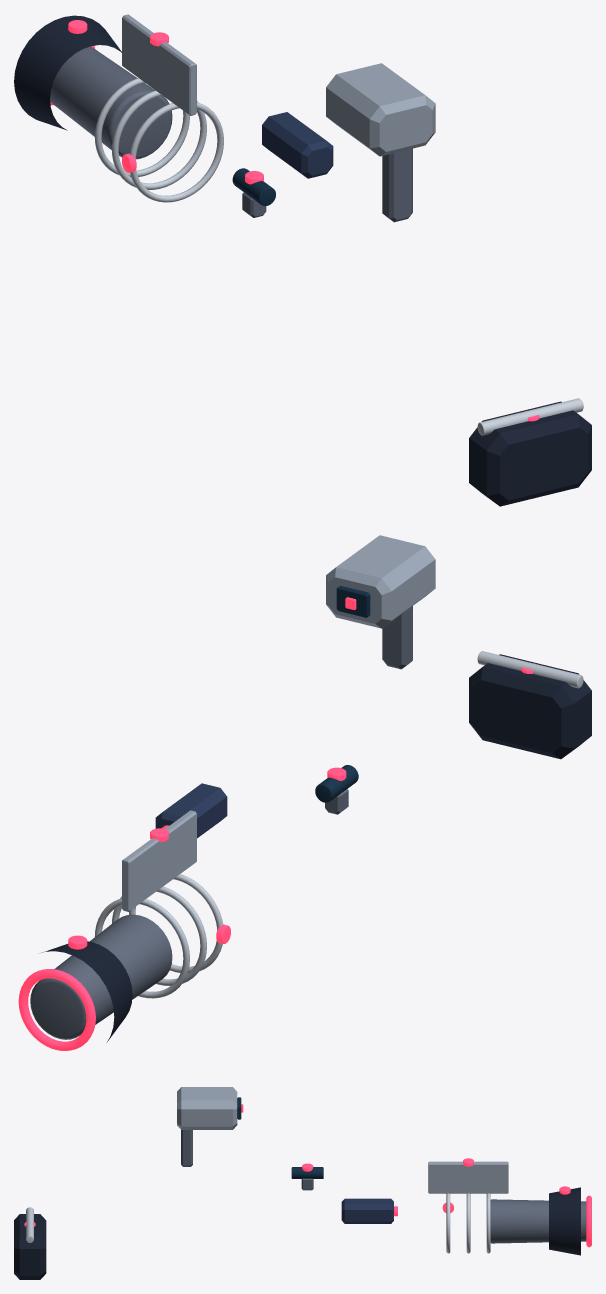
The model's file is tower_filament_optics_s9.glb.
3 renders of one model, top to bottom at view 1: azimuth 30°, elevation 25°; view 2: azimuth 150°, elevation 25°; view 3: azimuth 270°, elevation 25°, orthographic. The views are drawn at different scales.
Parts seen in each view (by area): view 1: filament_counterweight, filament_optics_head, filament_tube_ext, filament_lens_hood, filament_stab_fin, filament_rangefinder, filament_optics_mast, filament_corrector0, filament_corrector0.1, filament_corrector0.2, filament_counterweight_bar, filament_sight_glass; view 2: filament_counterweight, filament_tube_ext, filament_optics_head, filament_stab_fin, filament_lens_hood, filament_tube_ext_ring, filament_rangefinder, filament_optics_mast, filament_corrector0.2, filament_counterweight_bar, filament_corrector0.1, filament_corrector0 (+2 smaller); view 3: filament_tube_ext, filament_stab_fin, filament_optics_head, filament_lens_hood, filament_counterweight, filament_rangefinder, filament_optics_mast, filament_sight_glass, filament_tube_ext_ring, filament_corrector0, filament_corrector0.1, filament_corrector0.2 (+1 smaller).
Boxes of the visible parts, x1=… form: filament_counterweight: x1=469, y1=401, x2=591, y2=506; filament_optics_head: x1=326, y1=63, x2=435, y2=156; filament_tube_ext: x1=50, y1=46, x2=172, y2=159; filament_lens_hood: x1=14, y1=15, x2=121, y2=130; filament_stab_fin: x1=122, y1=14, x2=196, y2=115; filament_rangefinder: x1=262, y1=112, x2=333, y2=178; filament_optics_mast: x1=382, y1=148, x2=412, y2=222; filament_corrector0: x1=129, y1=102, x2=223, y2=202; filament_corrector0.1: x1=112, y1=90, x2=206, y2=189; filament_corrector0.2: x1=94, y1=78, x2=189, y2=176; filament_counterweight_bar: x1=477, y1=398, x2=583, y2=435; filament_sight_glass: x1=232, y1=168, x2=275, y2=206; filament_counterweight: x1=469, y1=654, x2=591, y2=759; filament_tube_ext: x1=30, y1=914, x2=172, y2=1039; filament_optics_head: x1=326, y1=535, x2=435, y2=628; filament_stab_fin: x1=122, y1=810, x2=196, y2=911; filament_lens_hood: x1=41, y1=941, x2=132, y2=1041; filament_tube_ext_ring: x1=18, y1=969, x2=95, y2=1050; filament_rangefinder: x1=155, y1=783, x2=227, y2=838; filament_optics_mast: x1=382, y1=606, x2=412, y2=669; filament_corrector0.2: x1=94, y1=898, x2=189, y2=998; filament_counterweight_bar: x1=477, y1=651, x2=583, y2=688; filament_corrector0.1: x1=112, y1=886, x2=206, y2=985; filament_corrector0: x1=129, y1=874, x2=223, y2=972; filament_tube_ext: x1=490, y1=1199, x2=586, y2=1243; filament_stab_fin: x1=428, y1=1161, x2=508, y2=1193; filament_optics_head: x1=177, y1=1087, x2=237, y2=1129; filament_lens_hood: x1=549, y1=1187, x2=580, y2=1255; filament_counterweight: x1=14, y1=1214, x2=46, y2=1279; filament_rangefinder: x1=341, y1=1198, x2=393, y2=1223; filament_optics_mast: x1=181, y1=1130, x2=192, y2=1166; filament_sight_glass: x1=291, y1=1167, x2=323, y2=1178; filament_tube_ext_ring: x1=586, y1=1195, x2=591, y2=1247; filament_corrector0: x1=446, y1=1193, x2=450, y2=1253; filament_corrector0.1: x1=466, y1=1193, x2=470, y2=1253; filament_corrector0.2: x1=486, y1=1193, x2=490, y2=1253.
Size of the model in its own units: 0.4132 by 0.9604 by 2.87.
